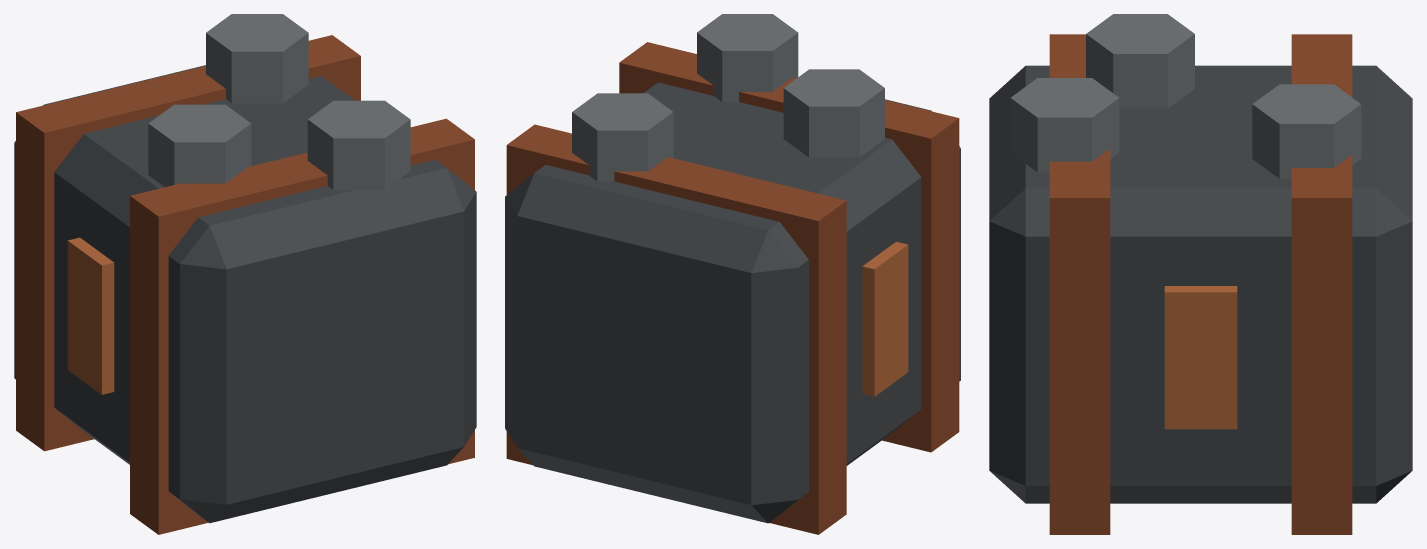
The model's file is mod_melee_weight.glb.
3 renders of one model, left to right at view 1: azimuth 30°, elevation 25°; view 2: azimuth 150°, elevation 25°; view 3: azimuth 270°, elevation 25°, orthographic. The views are drawn at different scales.
Parts seen in each view (by area): view 1: melee_weight; view 2: melee_weight; view 3: melee_weight.
Part boxes in pixels (left/top/right/bottom): melee_weight: left=14, top=14, right=476, bottom=534; melee_weight: left=505, top=14, right=960, bottom=534; melee_weight: left=989, top=14, right=1412, bottom=534.
Size of the model in its own units: 0.13 by 0.139 by 0.14.
